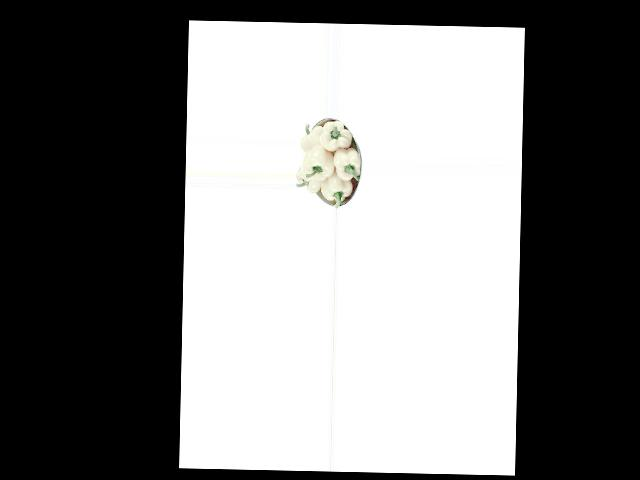bell_pepper: (296, 166, 324, 196)
